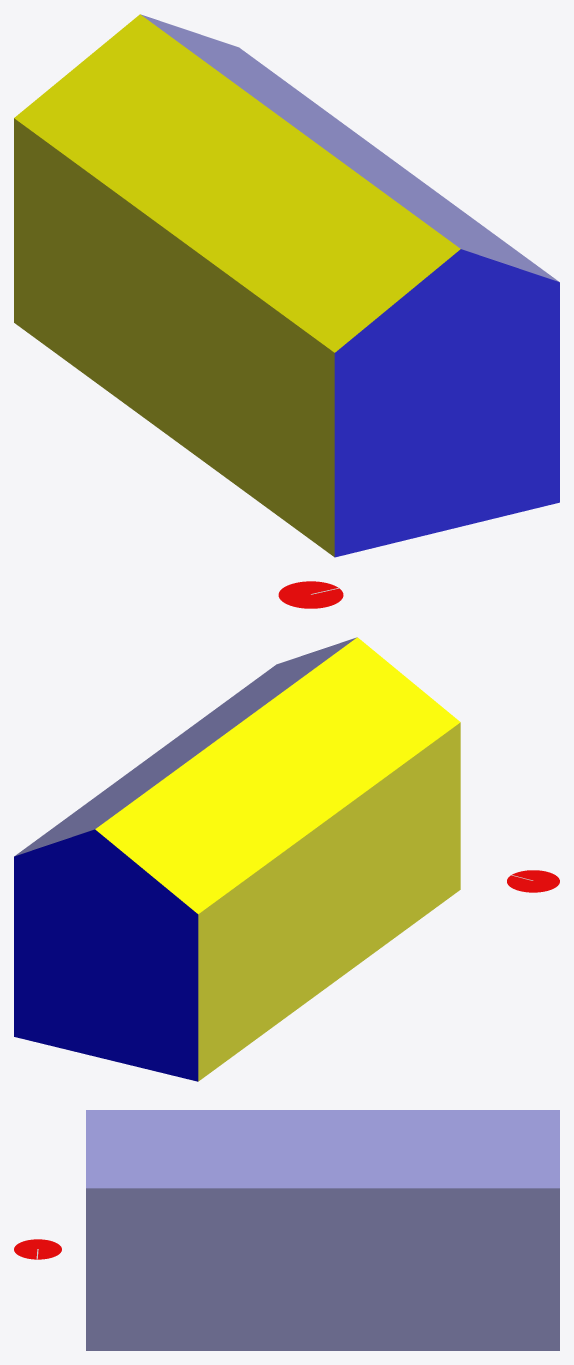
File: result.glb
3 views of the same model, one above another, from view 1: azimuth 30°, elevation 25°; view 2: azimuth 150°, elevation 25°; view 3: azimuth 270°, elevation 25° (orthographic). The views are drawn at different scales.
Parts seen in each view (by area): view 1: c4b3b4fc-43fd-44f2-b4de-b9bf1fd7b47d__undefined, 49529fdb-191c-49e3-8219-dc6b7445dde2__undefined, 8700d1f3-74da-437e-8c3c-a37923ab6bda__undefined, efca8ac6-09e2-47a5-94af-5c0b85a1e114__undefined, 362be3a8-6896-404f-8a2e-3506f3b993ab__Circle; view 2: c4b3b4fc-43fd-44f2-b4de-b9bf1fd7b47d__undefined, 49529fdb-191c-49e3-8219-dc6b7445dde2__undefined, 14751040-51f0-4fa1-85ce-3b4a2b99c637__undefined, efca8ac6-09e2-47a5-94af-5c0b85a1e114__undefined, 362be3a8-6896-404f-8a2e-3506f3b993ab__Circle; view 3: 5d5cc93c-1591-47cc-a242-f0f274ec3ca7__undefined, efca8ac6-09e2-47a5-94af-5c0b85a1e114__undefined, 362be3a8-6896-404f-8a2e-3506f3b993ab__Circle.
Boxes of the visible parts, left/top/right/bottom form: c4b3b4fc-43fd-44f2-b4de-b9bf1fd7b47d__undefined: left=14, top=118, right=334, bottom=556; 49529fdb-191c-49e3-8219-dc6b7445dde2__undefined: left=14, top=14, right=460, bottom=352; 8700d1f3-74da-437e-8c3c-a37923ab6bda__undefined: left=334, top=249, right=559, bottom=557; efca8ac6-09e2-47a5-94af-5c0b85a1e114__undefined: left=141, top=14, right=558, bottom=281; 362be3a8-6896-404f-8a2e-3506f3b993ab__Circle: left=278, top=581, right=343, bottom=608; c4b3b4fc-43fd-44f2-b4de-b9bf1fd7b47d__undefined: left=198, top=722, right=460, bottom=1081; 49529fdb-191c-49e3-8219-dc6b7445dde2__undefined: left=95, top=637, right=460, bottom=914; 14751040-51f0-4fa1-85ce-3b4a2b99c637__undefined: left=14, top=829, right=198, bottom=1081; efca8ac6-09e2-47a5-94af-5c0b85a1e114__undefined: left=14, top=637, right=356, bottom=856; 362be3a8-6896-404f-8a2e-3506f3b993ab__Circle: left=507, top=870, right=559, bottom=892; 5d5cc93c-1591-47cc-a242-f0f274ec3ca7__undefined: left=86, top=1188, right=559, bottom=1350; efca8ac6-09e2-47a5-94af-5c0b85a1e114__undefined: left=86, top=1110, right=559, bottom=1188; 362be3a8-6896-404f-8a2e-3506f3b993ab__Circle: left=14, top=1239, right=61, bottom=1259.
Bounding box in the file's own units: 550 × 471 × 1137.
